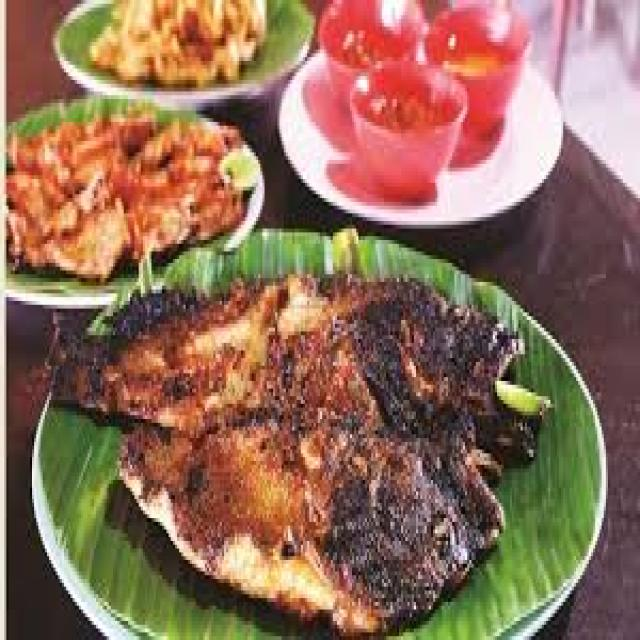ikan bakar: (49, 274, 553, 640)
